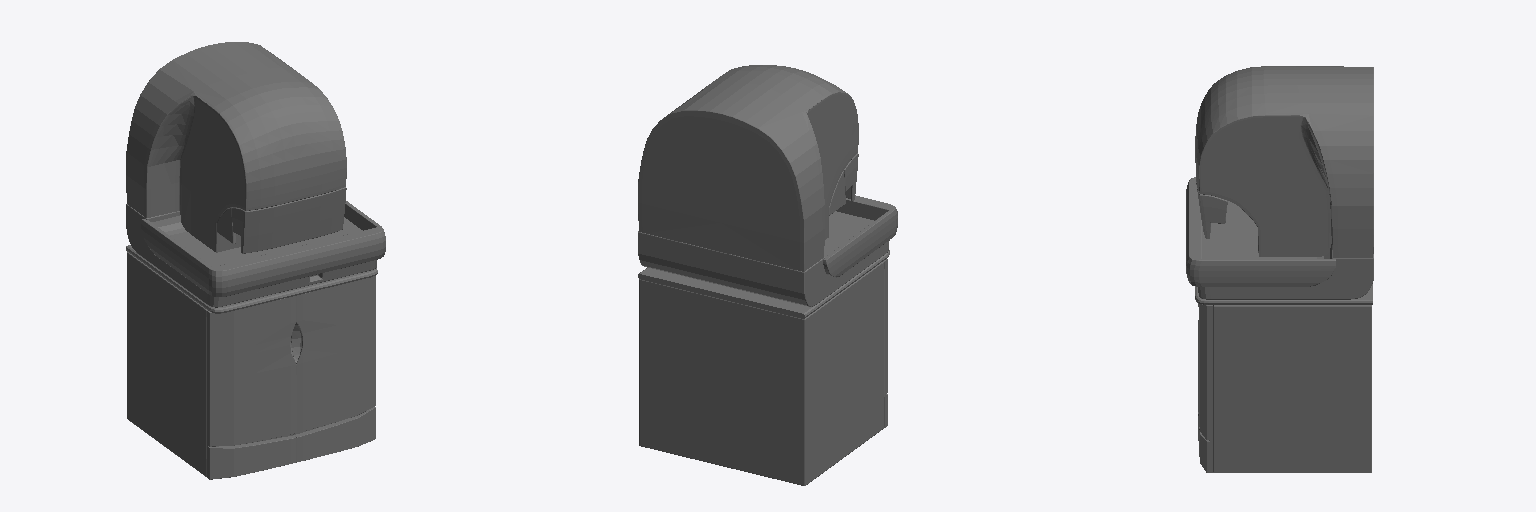
Rendered from khalilAnderson_dxh800.002.obj.
The picture shows the model from 3 angles: view 1: azimuth 30°, elevation 25°; view 2: azimuth 150°, elevation 25°; view 3: azimuth 270°, elevation 25°; orthographic projection.
Size of the model in its own units: 104 by 200 by 96.39.